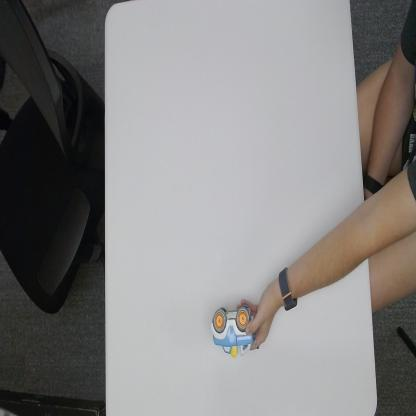Arm: (297, 202, 366, 298)
Car: (210, 301, 256, 359)
Hand: (236, 283, 276, 352)
